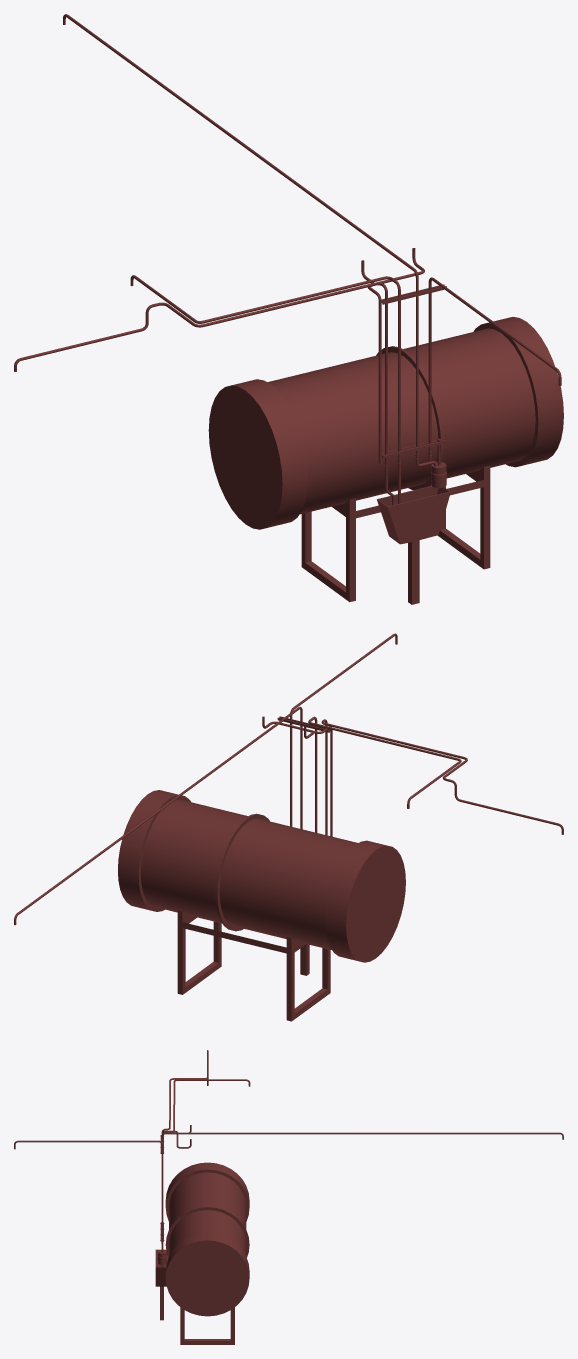
Rendered from TheBigBrown.fbx.
The picture shows the model from 3 angles, top to bottom: view 1: azimuth 30°, elevation 25°; view 2: azimuth 150°, elevation 25°; view 3: azimuth 270°, elevation 25°; orthographic projection. The views are drawn at different scales.
Visible parts, largest first — view 1: TheBigBrown; view 2: TheBigBrown; view 3: TheBigBrown.
Part boxes in pixels (x1,y1,x2,y2): TheBigBrown: (14,14,563,604); TheBigBrown: (14,633,563,1021); TheBigBrown: (14,1050,563,1344).
Bounding box in the file's own units: 401 × 247 × 656.
